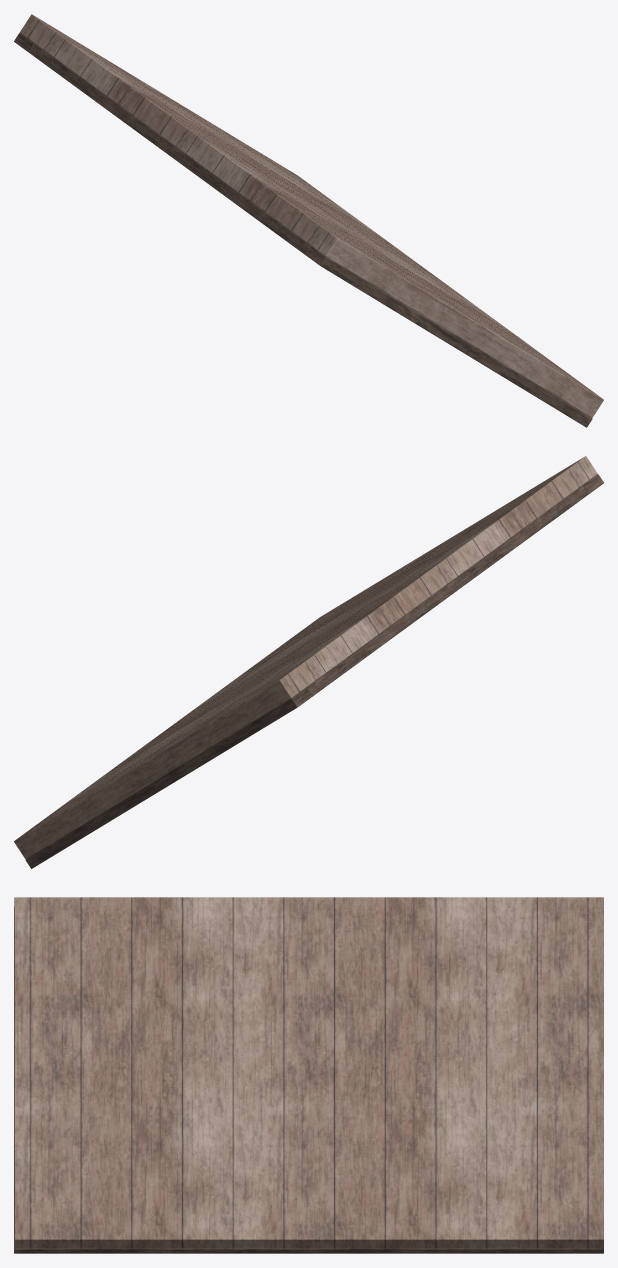
The model's file is Stable_CeilingTilted_LP.glb.
3 renders of one model, top to bottom at view 1: azimuth 30°, elevation 25°; view 2: azimuth 150°, elevation 25°; view 3: azimuth 270°, elevation 25°, orthographic. The views are drawn at different scales.
Parts seen in each view (by area): view 1: Stable_CeilingTilted_LP; view 2: Stable_CeilingTilted_LP; view 3: Stable_CeilingTilted_LP.
Part boxes in pixels (x1,y1,x2,y2): Stable_CeilingTilted_LP: [14, 14, 603, 427]; Stable_CeilingTilted_LP: [14, 456, 603, 868]; Stable_CeilingTilted_LP: [14, 897, 603, 1253].
Size of the model in its own units: 2.31 by 1.94 by 4.34.
Materials: 1 (1 with a texture image).
